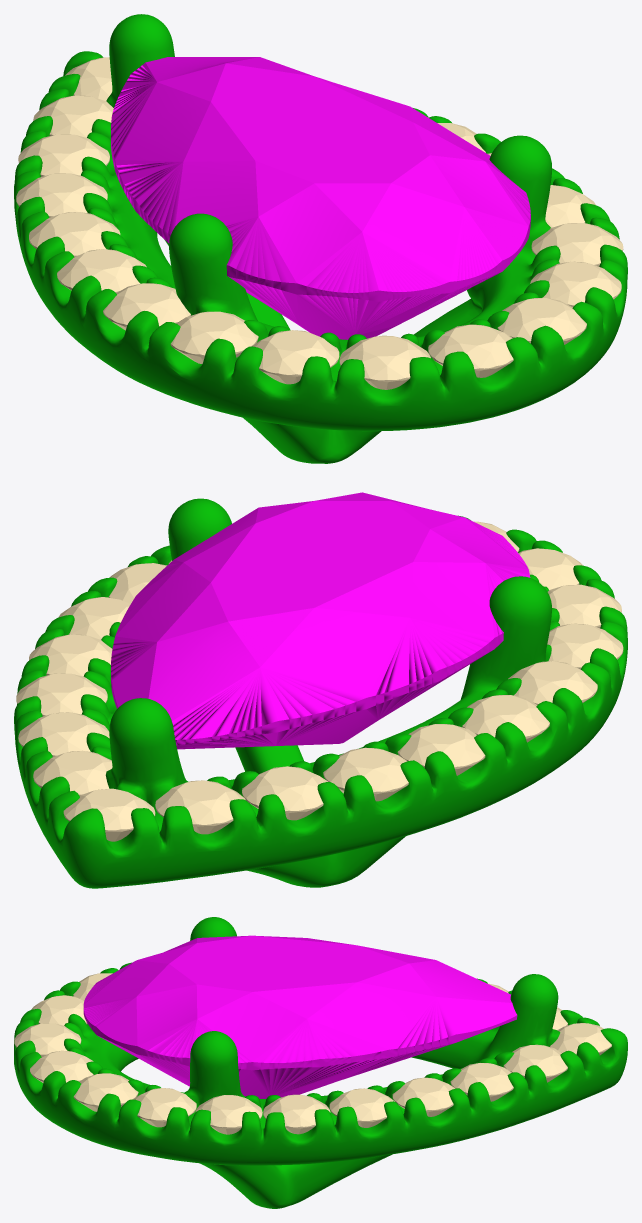
3 renders of one model, top to bottom at view 1: azimuth 30°, elevation 25°; view 2: azimuth 150°, elevation 25°; view 3: azimuth 270°, elevation 25°, orthographic. The views are drawn at different scales.
Parts seen in each view (by area): view 1: Diamond_Pear, Metal01, Diamond_Round.010, Diamond_Round.011, Diamond_Round.009, Diamond_Round.012, Diamond_Round.008, Diamond_Round.013, Diamond_Round.014, Diamond_Round.007, Diamond_Round.015, Diamond_Round.006 (+5 smaller); view 2: Diamond_Pear, Metal01, Diamond_Round.017, Diamond_Round.018, Diamond_Round.016, Diamond_Round.015, Diamond_Round.014, Diamond_Round.013, Diamond_Round.001, Diamond_Round.002, Diamond_Round, Diamond_Round.019 (+6 smaller); view 3: Metal01, Diamond_Pear, Diamond_Round.004, Diamond_Round.002, Diamond_Round.005, Diamond_Round.006, Diamond_Round.003, Diamond_Round.007, Diamond_Round.001, Diamond_Round, Diamond_Round.008, Diamond_Round.009 (+3 smaller).
Part boxes in pixels (box(x1,y1,x2,y2)): Diamond_Pear: box(111, 57, 530, 339); Metal01: box(14, 14, 627, 463); Diamond_Round.010: box(339, 335, 430, 389); Diamond_Round.011: box(252, 330, 339, 384); Diamond_Round.009: box(428, 324, 513, 377); Diamond_Round.012: box(170, 311, 258, 363); Diamond_Round.008: box(497, 298, 586, 344); Diamond_Round.013: box(103, 283, 190, 330); Diamond_Round.014: box(57, 249, 146, 292); Diamond_Round.007: box(530, 261, 621, 307); Diamond_Round.015: box(29, 212, 120, 257); Diamond_Round.006: box(531, 223, 623, 266); Diamond_Pear: box(111, 492, 530, 749); Metal01: box(14, 498, 627, 888); Diamond_Round.017: box(242, 766, 328, 820); Diamond_Round.018: box(155, 780, 245, 834); Diamond_Round.016: box(323, 747, 408, 801); Diamond_Round.015: box(397, 724, 485, 775); Diamond_Round.014: box(462, 695, 549, 742); Diamond_Round.013: box(508, 661, 597, 704); Diamond_Round.001: box(18, 712, 109, 756); Diamond_Round.002: box(16, 673, 107, 716); Diamond_Round: box(33, 750, 112, 795); Diamond_Round.019: box(63, 788, 155, 841); Metal01: box(14, 917, 627, 1208); Diamond_Pear: box(83, 935, 517, 1098); Diamond_Round.004: box(263, 1094, 330, 1134); Diamond_Round.002: box(392, 1077, 455, 1116); Diamond_Round.005: box(195, 1095, 262, 1134); Diamond_Round.006: box(133, 1088, 196, 1127); Diamond_Round.003: box(329, 1088, 394, 1127); Diamond_Round.007: box(73, 1073, 138, 1111); Diamond_Round.001: box(450, 1063, 513, 1101); Diamond_Round: box(503, 1044, 567, 1082); Diamond_Round.008: box(30, 1050, 93, 1082); Diamond_Round.009: box(14, 1023, 81, 1056).
Bounding box in the file's own units: 10.48 × 6.61 × 15.57.
